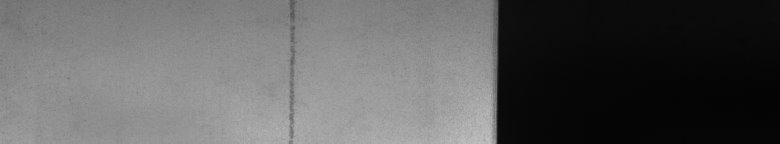hd: (285, 4, 299, 136)
